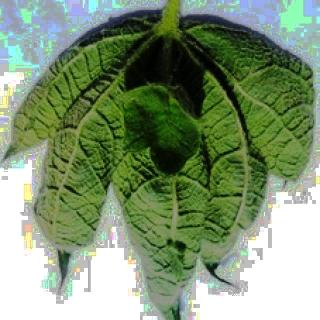curl: (8, 13, 296, 310)
